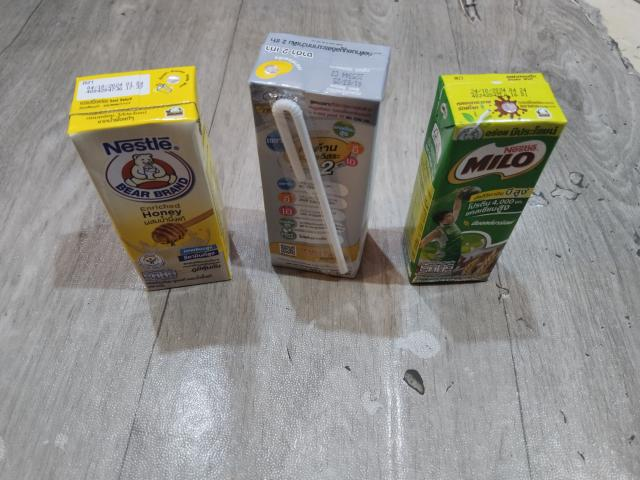drink_box: (61, 58, 241, 303), (242, 26, 401, 285), (398, 68, 579, 290)
